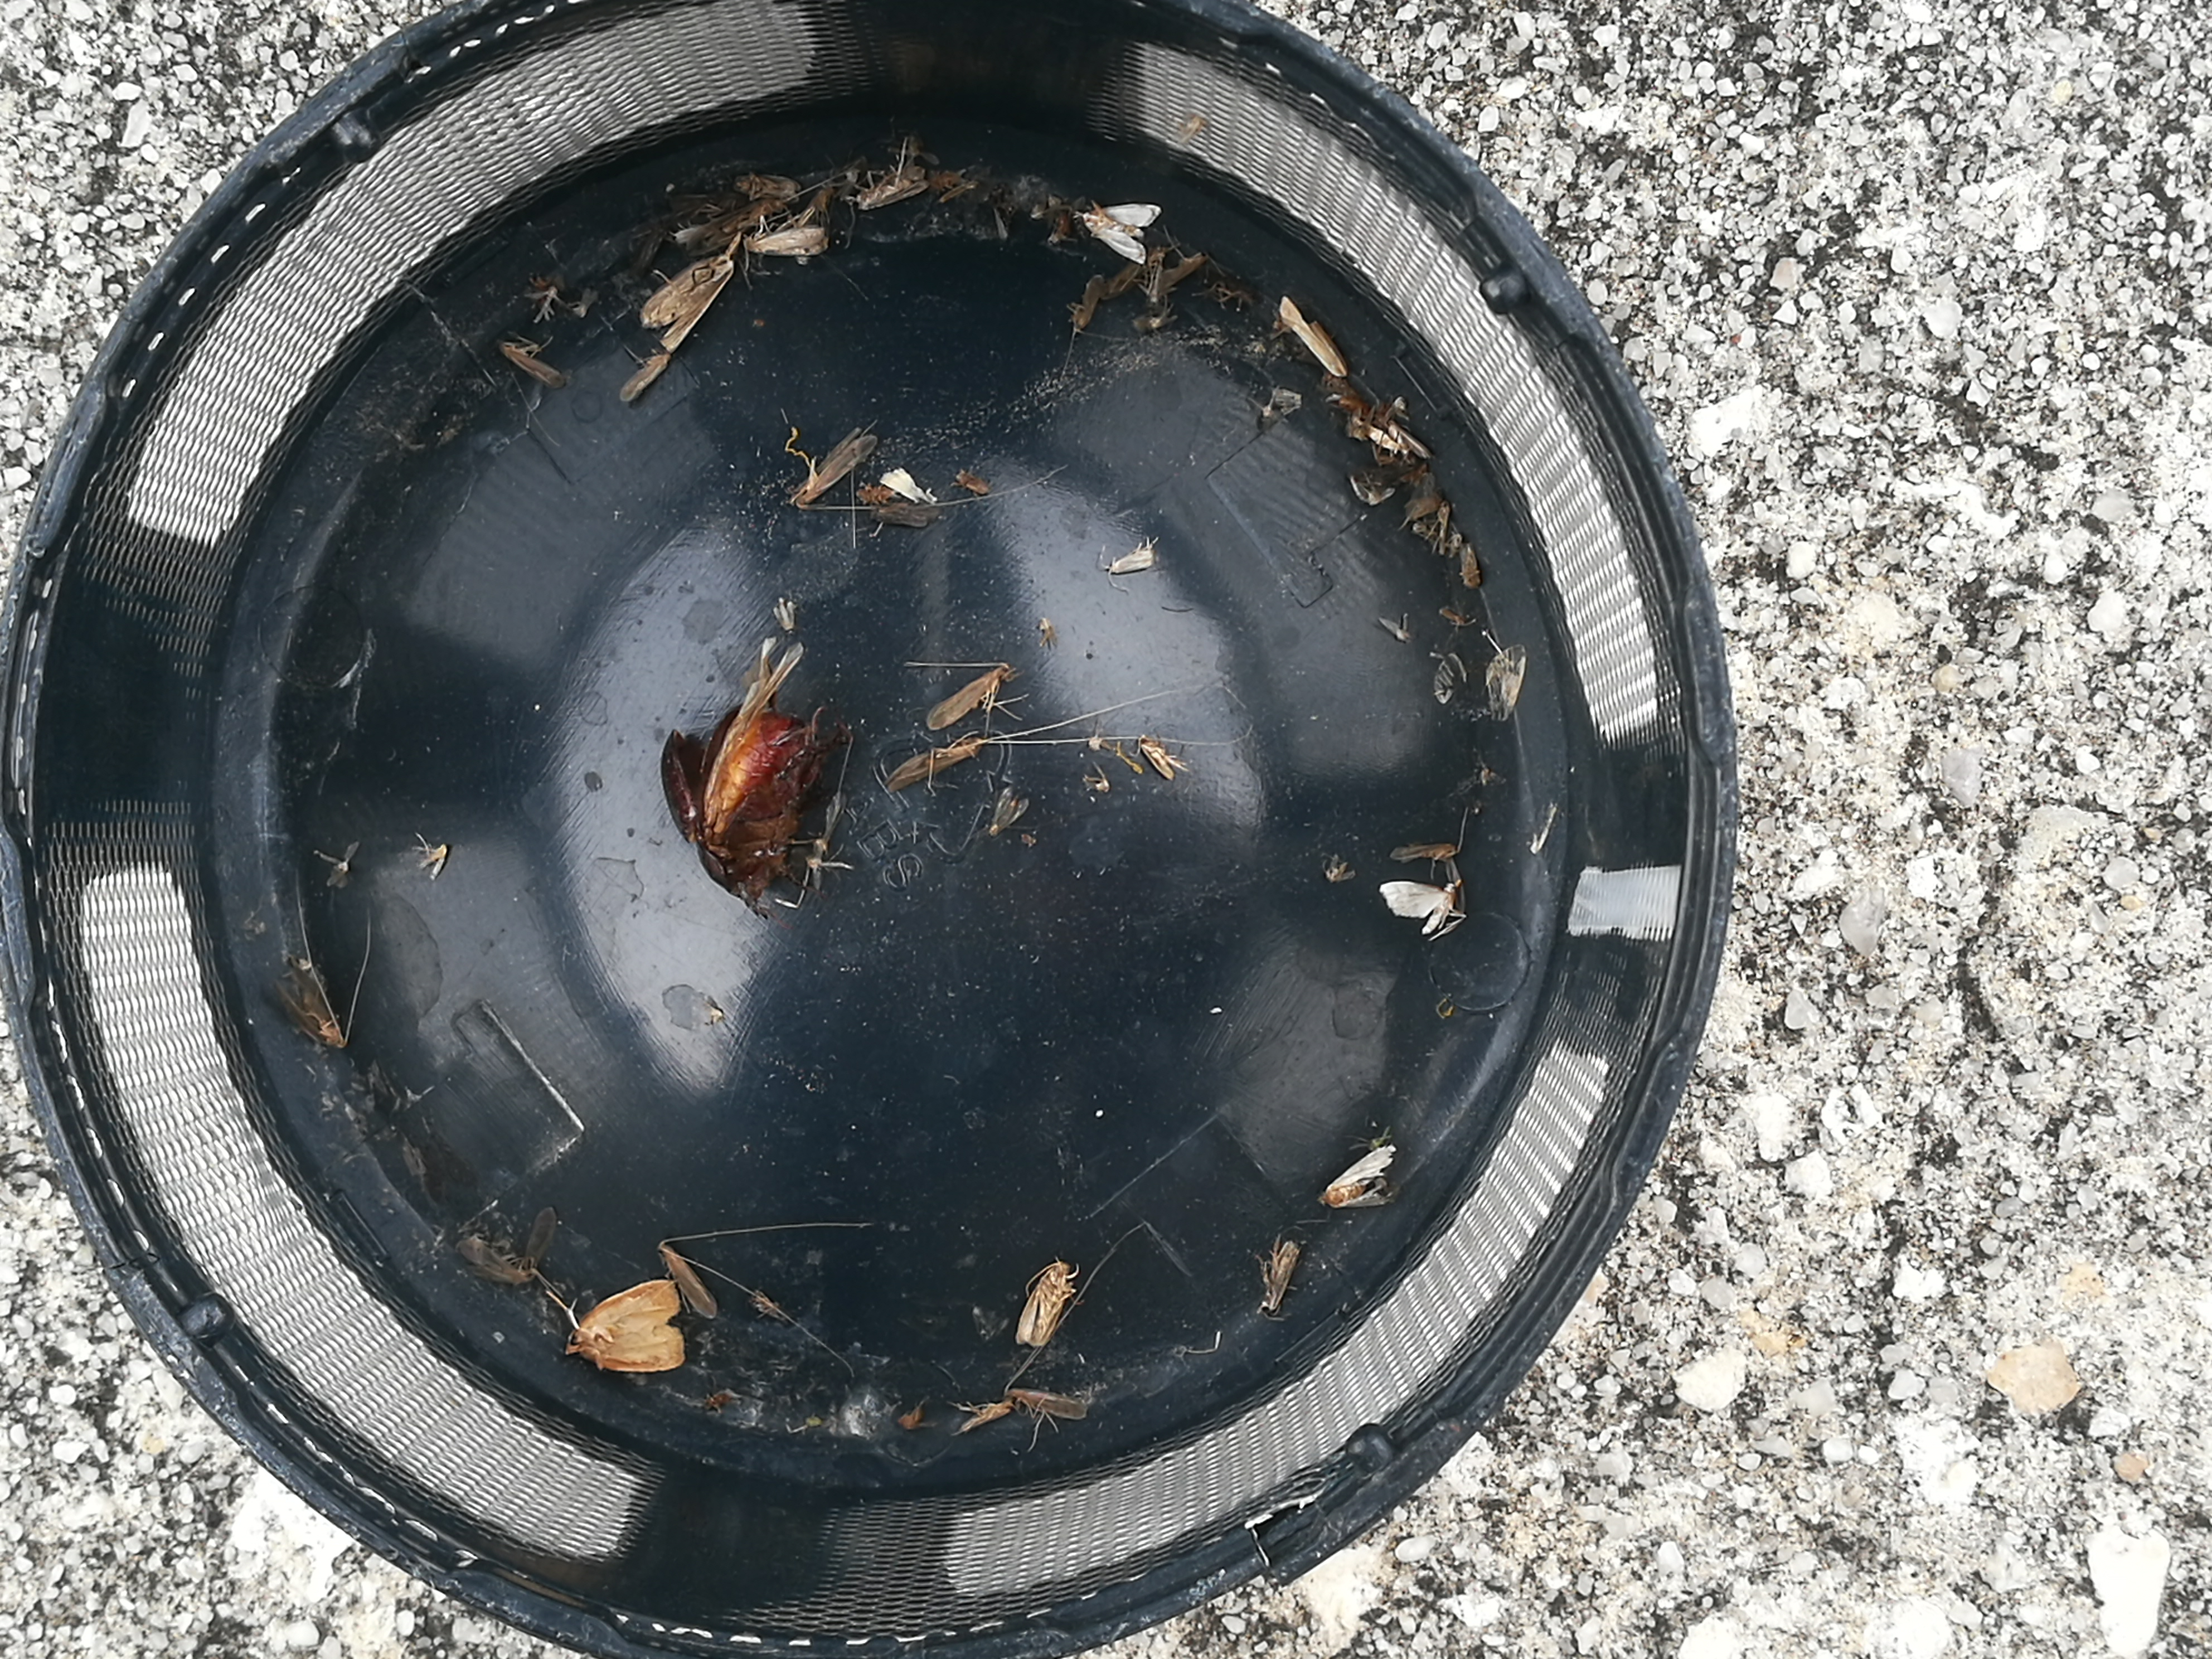mosquito: (787, 425, 873, 507), (928, 667, 1014, 728), (888, 742, 981, 793), (657, 1244, 714, 1316), (1007, 1389, 1094, 1425), (500, 340, 564, 389), (855, 171, 925, 207), (1264, 1244, 1298, 1317), (730, 173, 805, 202), (742, 228, 827, 253), (625, 352, 669, 397), (1143, 737, 1184, 777), (1071, 281, 1097, 329)
moth: (571, 1281, 686, 1371), (643, 253, 733, 350), (458, 1206, 557, 1283), (279, 957, 340, 1051), (1082, 202, 1158, 263), (1015, 1260, 1069, 1345), (1324, 1147, 1393, 1209), (1381, 882, 1458, 932)
